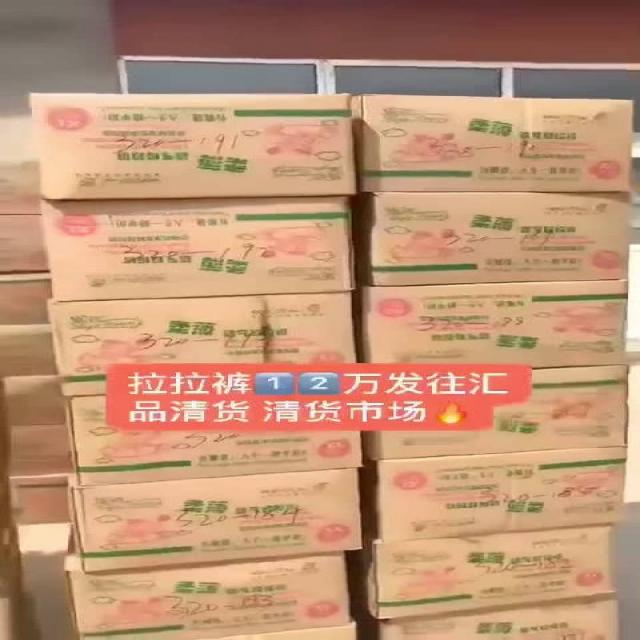box: (31, 92, 357, 200), (40, 197, 357, 302), (69, 524, 351, 640), (45, 291, 359, 395), (68, 467, 364, 573), (353, 94, 633, 192), (60, 395, 364, 485), (347, 523, 617, 621), (351, 191, 629, 286), (361, 365, 628, 461), (364, 446, 628, 542), (352, 279, 628, 369), (361, 596, 620, 640), (0, 424, 75, 485), (193, 614, 360, 640), (0, 524, 36, 639), (0, 115, 41, 215), (0, 375, 65, 425), (0, 485, 77, 524), (0, 215, 49, 273), (0, 272, 52, 323)
